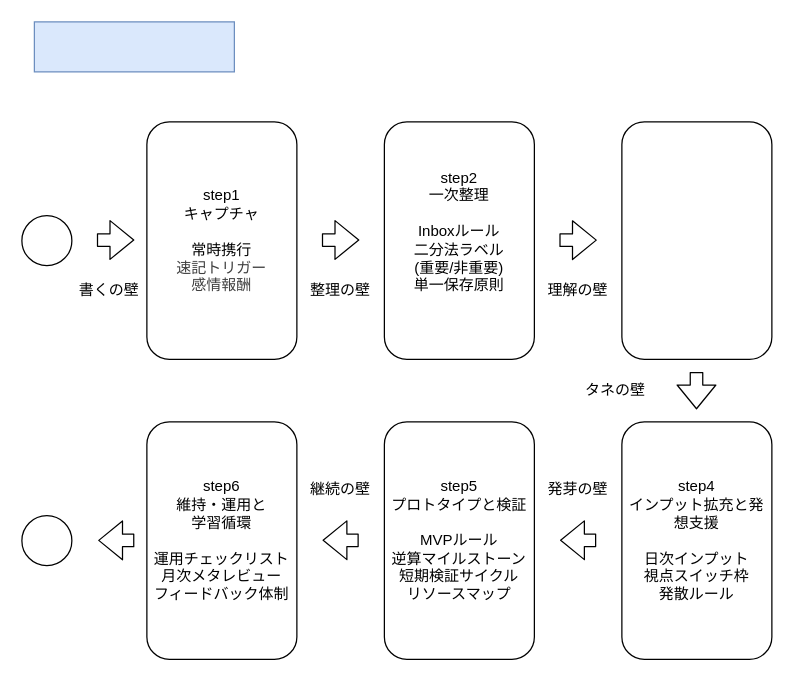
Some shapes in this 794 by 681 pixel diagram are drawn without their labels. The shapes that lost their labels are listed below. From the top down, each one's box as (x1, y1, x2, y2) in pixels, then its label:
(33, 21, 234, 72): メモの問題点 ～作業のステップ～
(621, 121, 772, 359): step3 明確化と補完 リライト習慣 必須補記 抽象保存ポリシー （詩タグ化）
